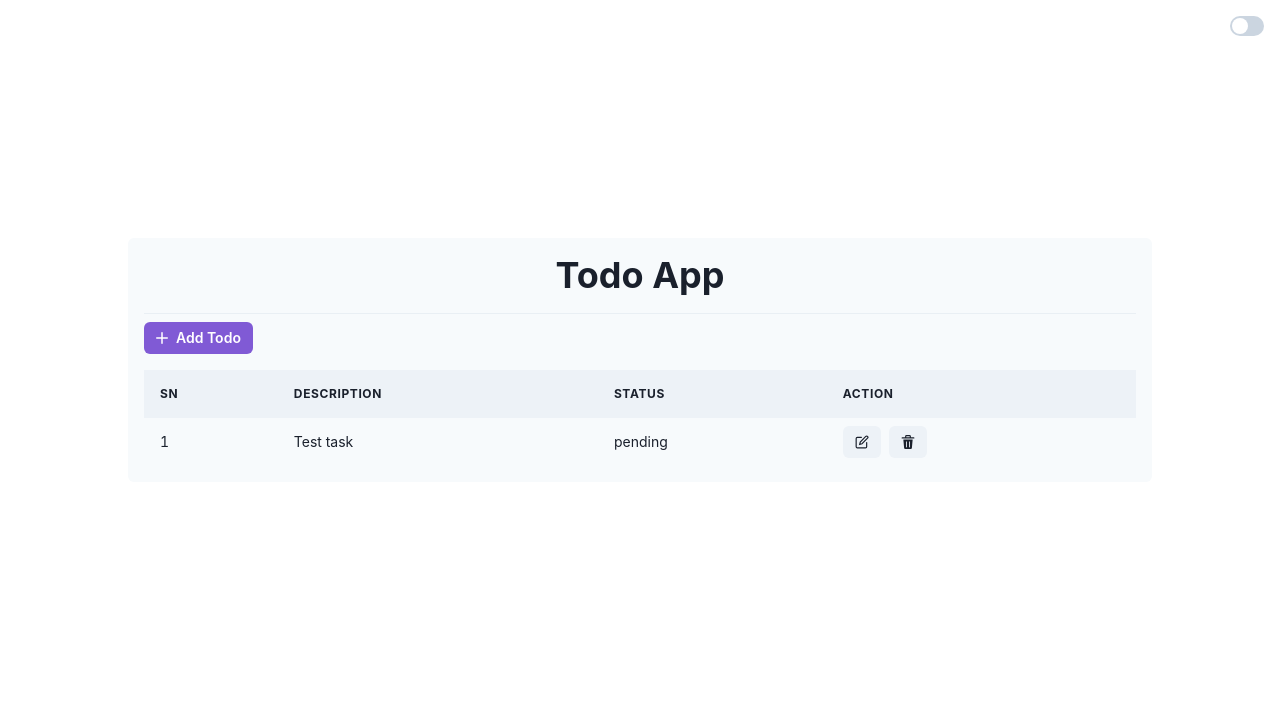
Tests for todo form › Todo form › should update a task status and description
Click the button with id "edit-task-button" at (862, 442), box [843,426,881,458]
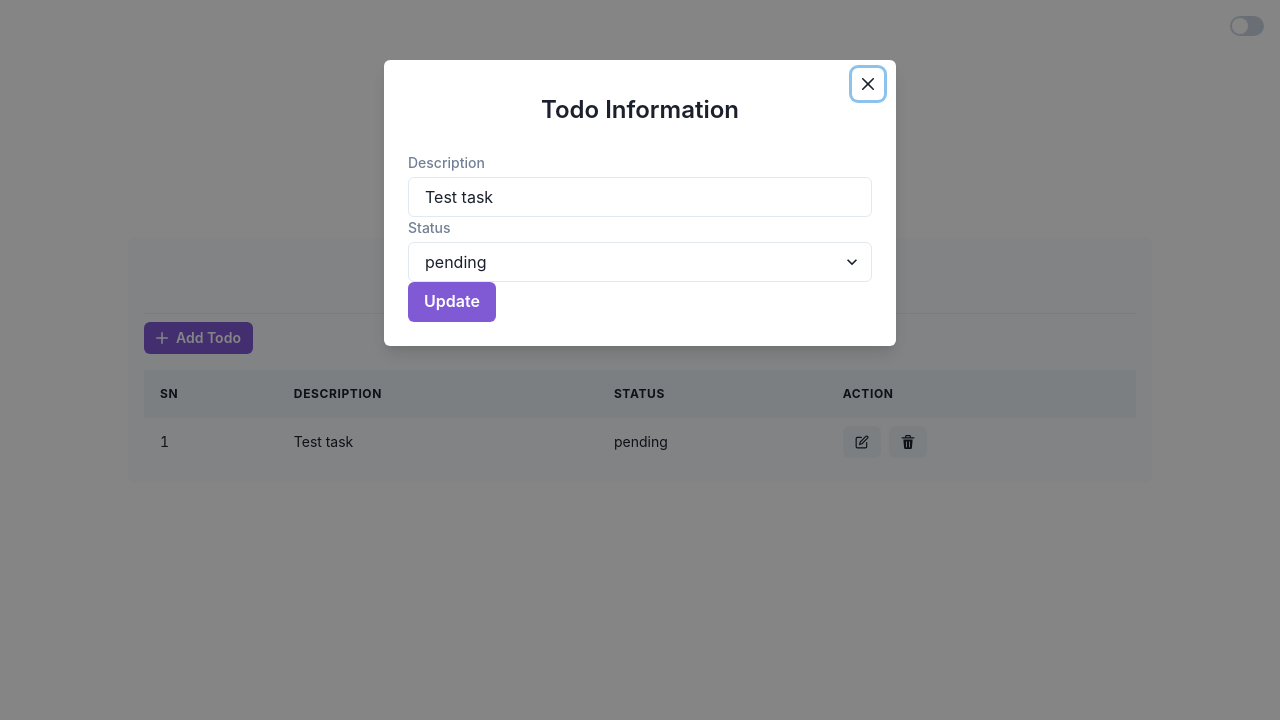
Replace the text in the field with id "description" with "Test task updated" at (640, 197), box [408,177,872,217]
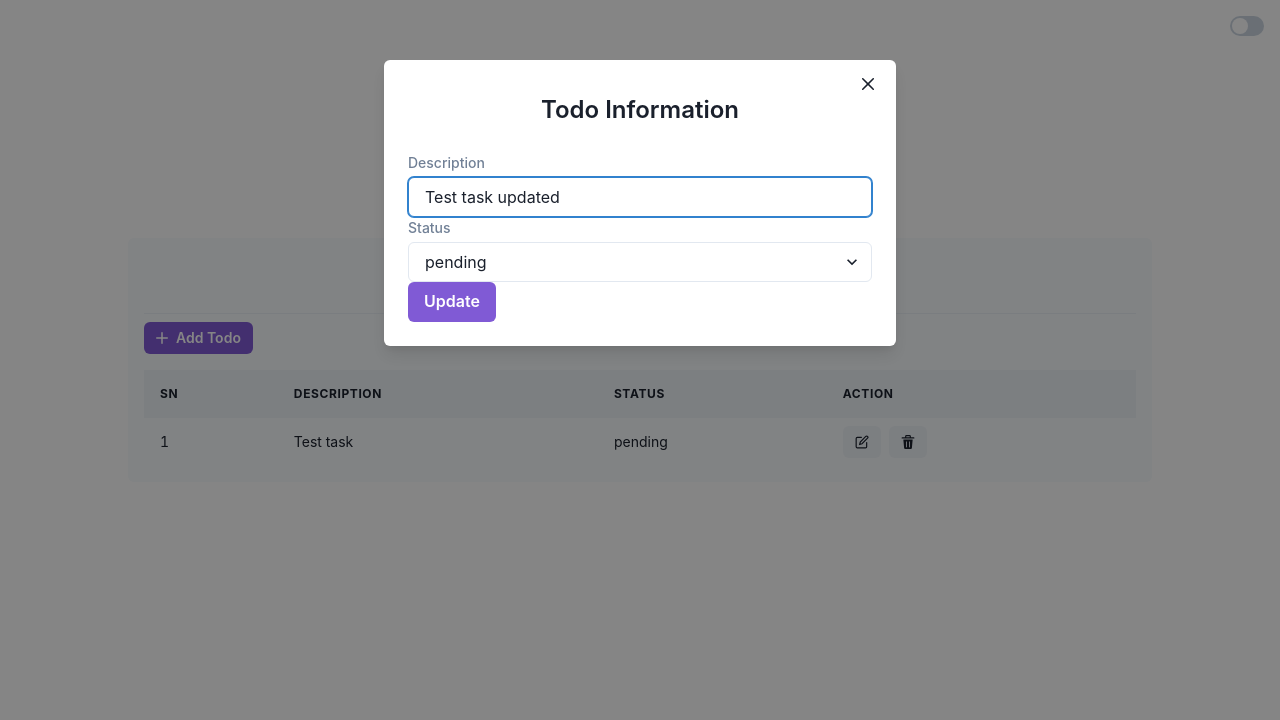
Select "completed" in the dropdown with id "status" at (640, 262), box [408,242,872,282]
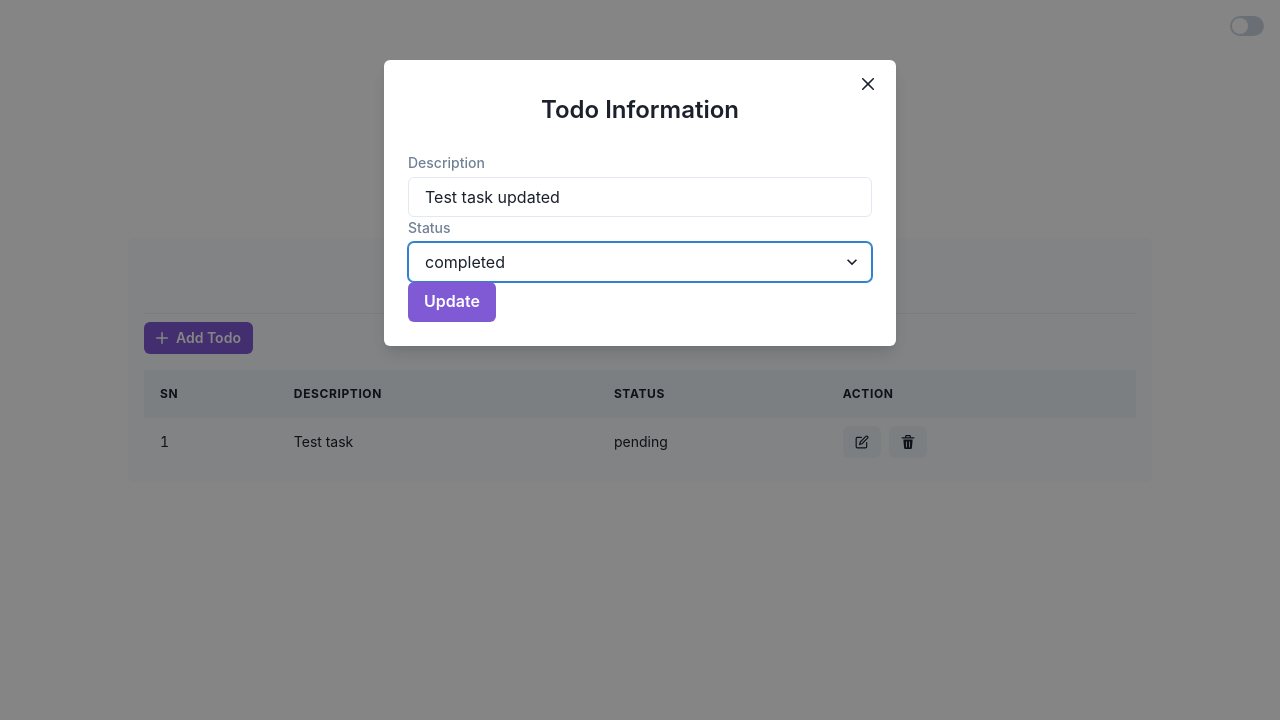
Click the submit button at (452, 302), box [408,282,496,322]
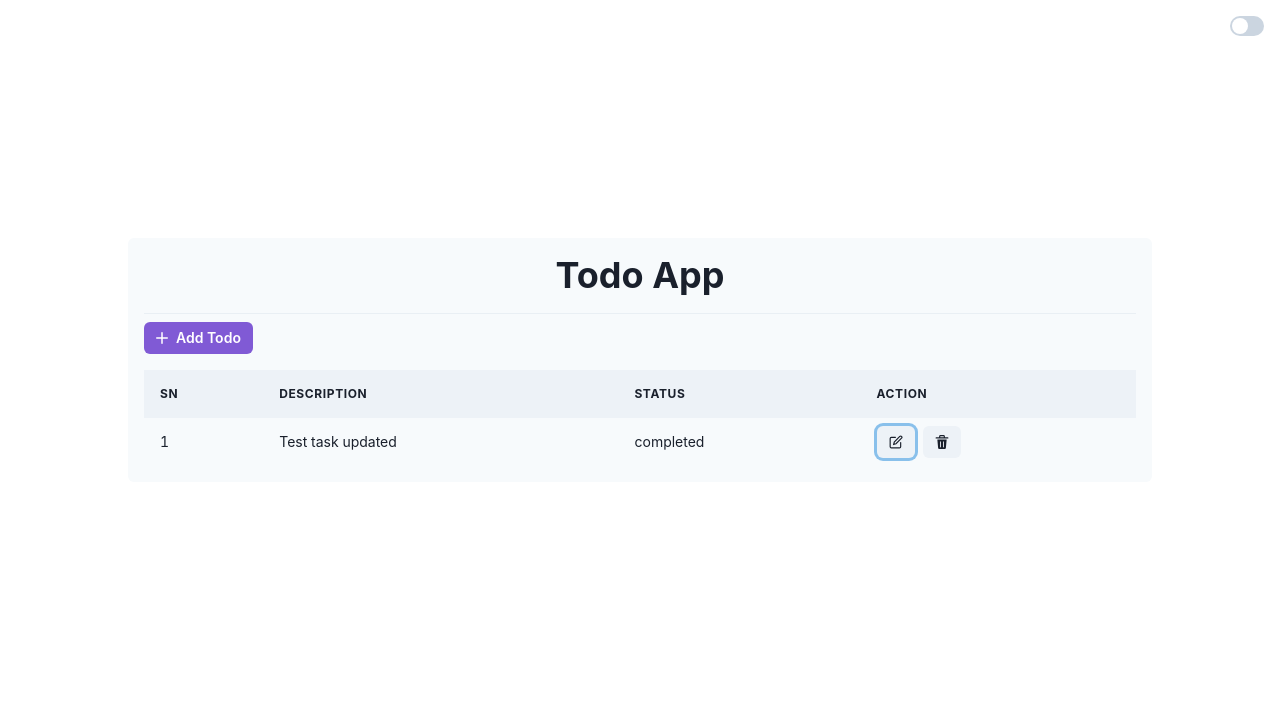
Result: the cell "Test task updated" is shown at [263,418,618,466]
Result: the cell "completed" is shown at [618,418,861,466]
